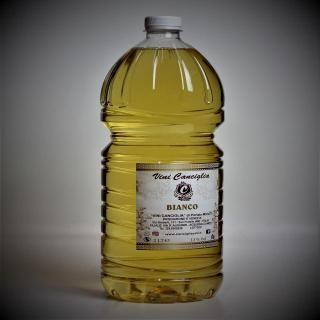Plastic-bottle: (93, 12, 233, 310)
